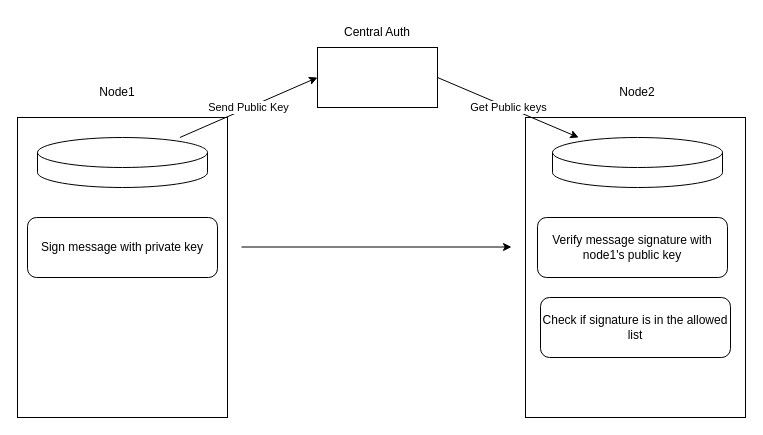
Some shapes in this 763 by 435 pixel diagram are drawn without their labels. Here are the shapes that lost their labels. From the top down, the centre of each, then its label:
At point 122,162: "Private and Public keys".
At point 637,162: "Public keys".
